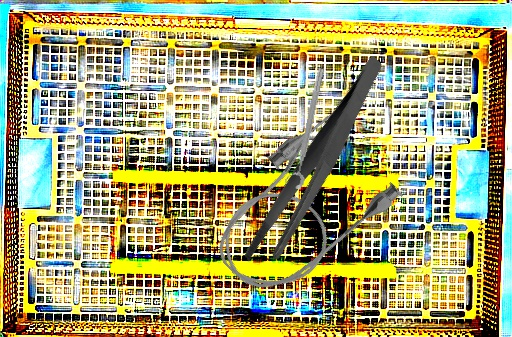Cannula: (190, 98, 413, 315)
Dressing Forceps: (205, 54, 429, 275)
Fixation Ring: (282, 65, 329, 191)
